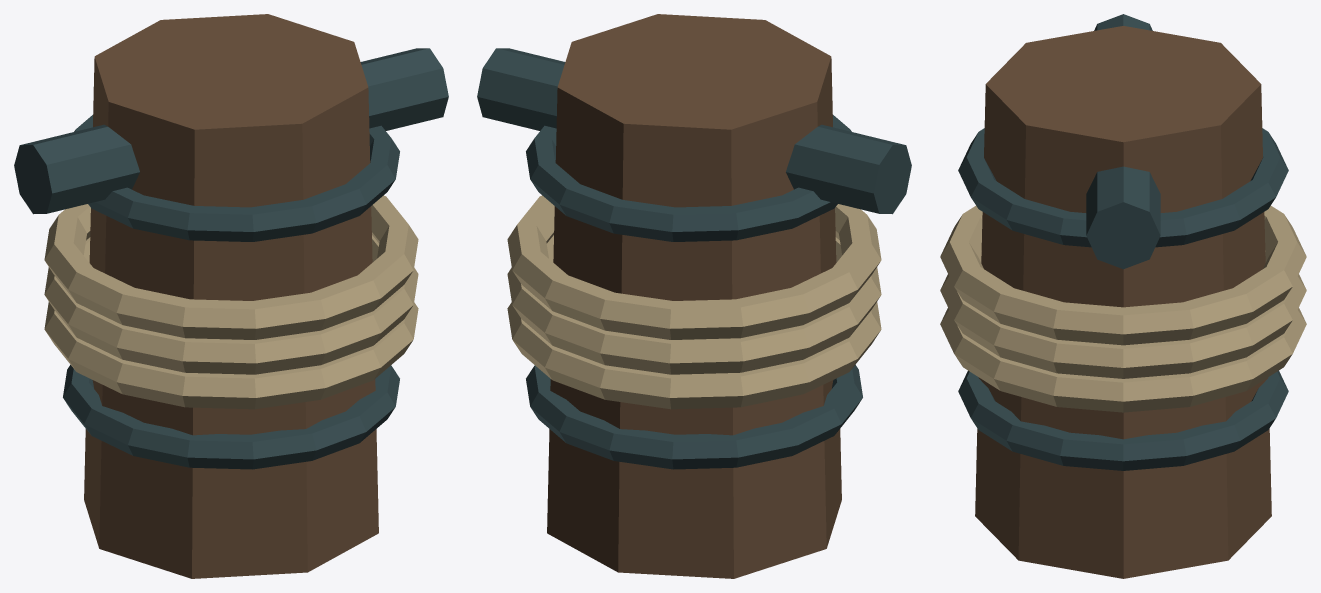
Rendered from rope_mooring.glb.
3 views of the same model, side by side, from view 1: azimuth 30°, elevation 25°; view 2: azimuth 150°, elevation 25°; view 3: azimuth 270°, elevation 25° (orthographic). The views are drawn at different scales.
Visible parts, largest first — view 1: MG2 rope_mooring MG2 Wood cedar, MG2 rope_mooring MG2 Rope, MG2 rope_mooring MG2 Metal iron; view 2: MG2 rope_mooring MG2 Wood cedar, MG2 rope_mooring MG2 Rope, MG2 rope_mooring MG2 Metal iron; view 3: MG2 rope_mooring MG2 Wood cedar, MG2 rope_mooring MG2 Rope, MG2 rope_mooring MG2 Metal iron.
Boxes of the visible parts, <box> form: MG2 rope_mooring MG2 Wood cedar: <box>84,14,378,578</box>; MG2 rope_mooring MG2 Rope: <box>44,195,418,409</box>; MG2 rope_mooring MG2 Metal iron: <box>14,48,448,469</box>; MG2 rope_mooring MG2 Wood cedar: <box>547,14,841,578</box>; MG2 rope_mooring MG2 Rope: <box>507,195,881,409</box>; MG2 rope_mooring MG2 Metal iron: <box>477,48,911,469</box>; MG2 rope_mooring MG2 Wood cedar: <box>975,26,1271,578</box>; MG2 rope_mooring MG2 Rope: <box>940,205,1306,412</box>; MG2 rope_mooring MG2 Metal iron: <box>958,14,1288,470</box>.
Size of the model in its own units: 0.42 by 0.45 by 0.346.
